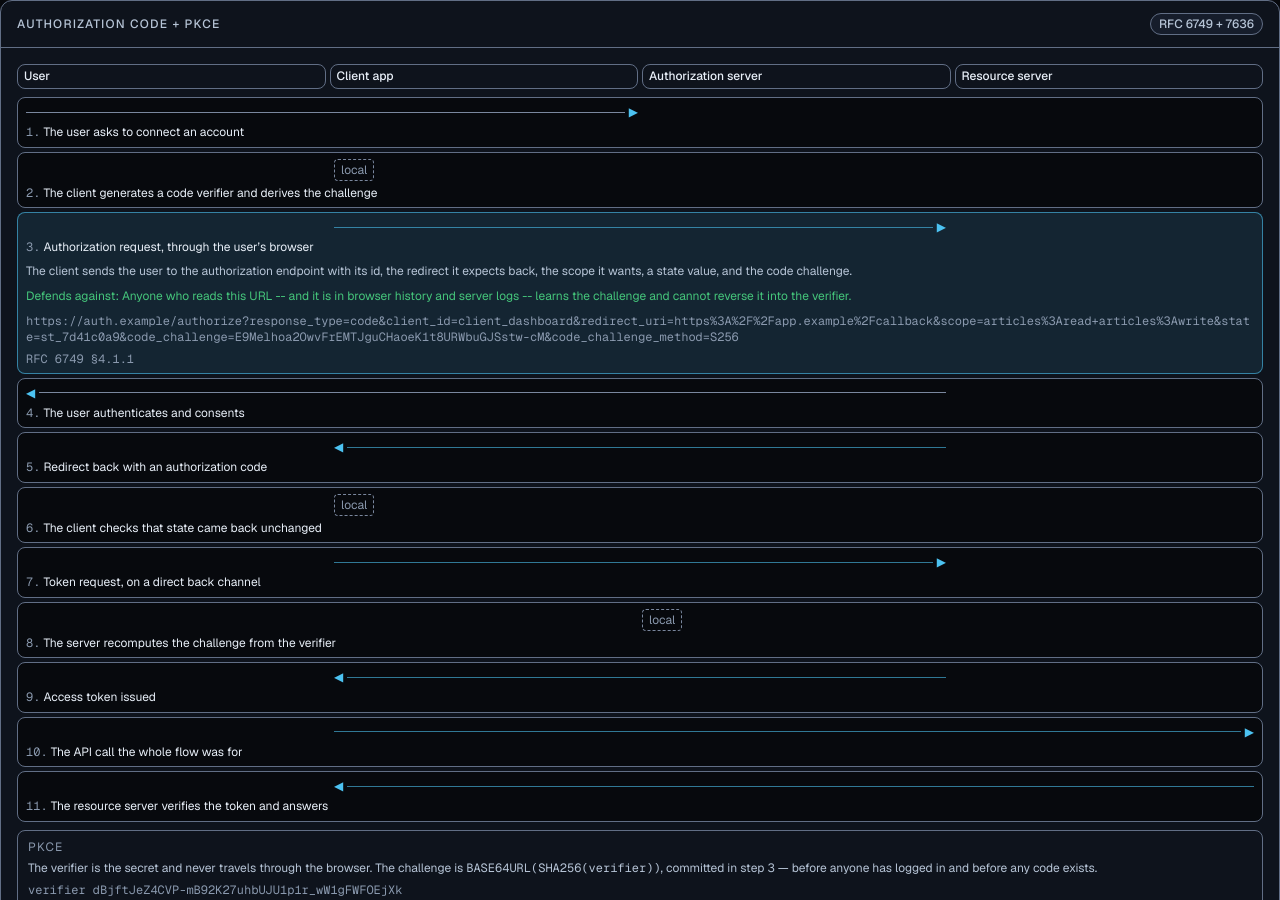
Test: the ladder › expands a rung to show what it defends against
Click the button "◀ 4. The user authenticates and consents".
click(144, 412)  # box [17, 378, 1263, 428]
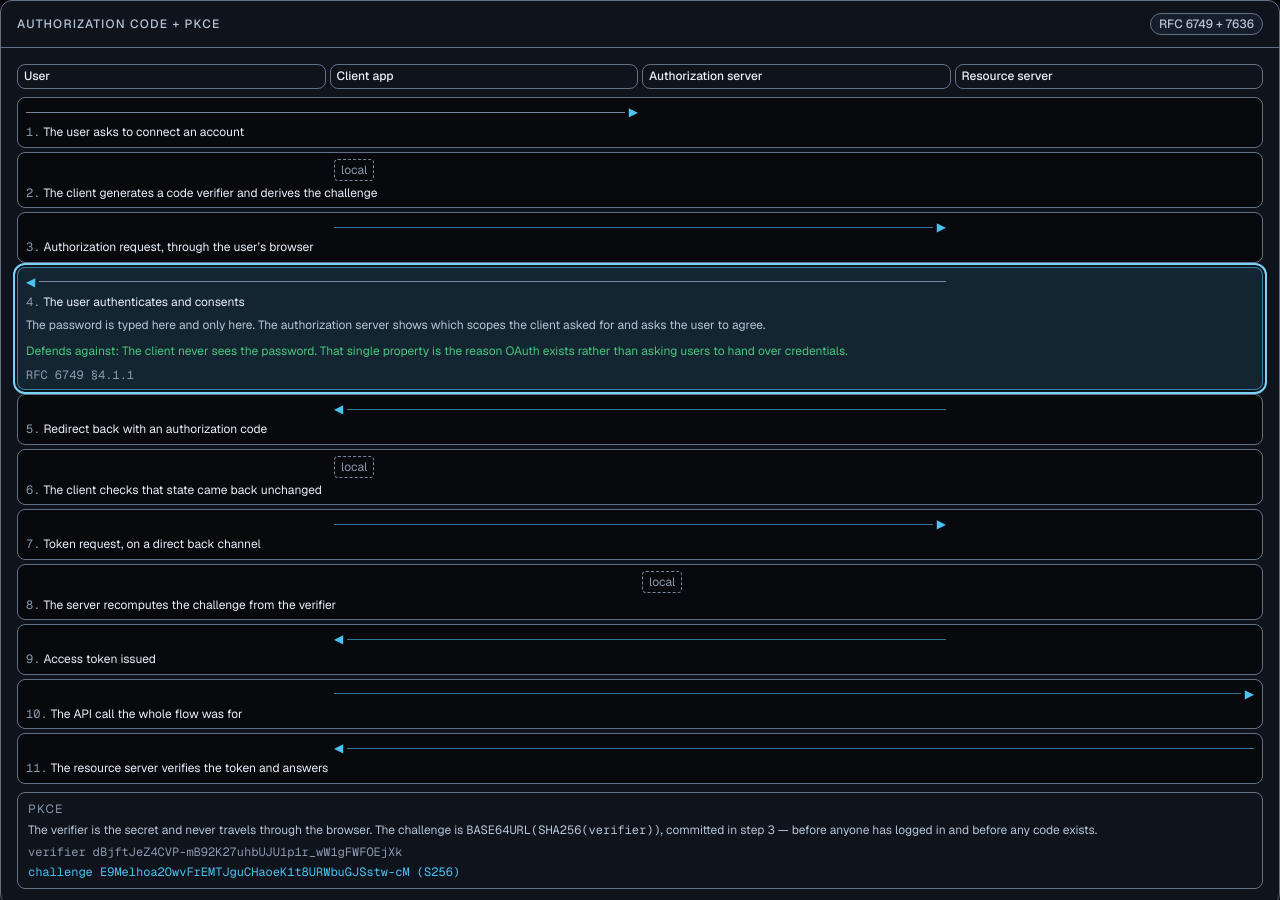
Expected: the button "The user authenticates and consents" is expanded, [17, 266, 1263, 390]
